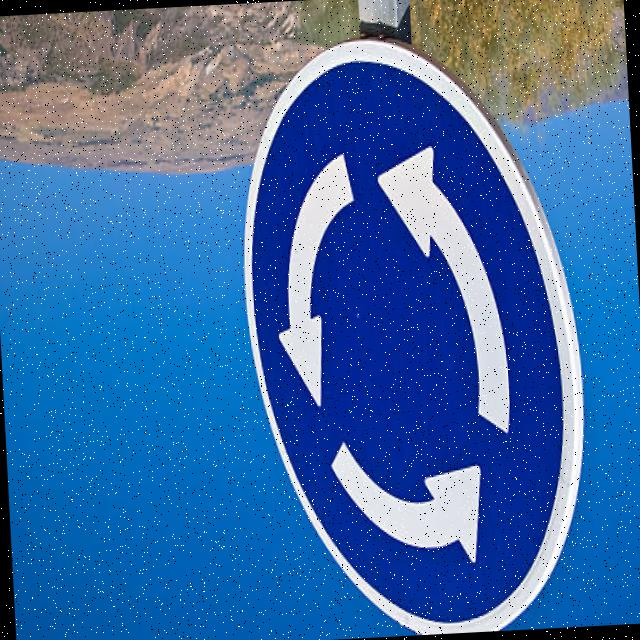round_about: (212, 19, 606, 640)
